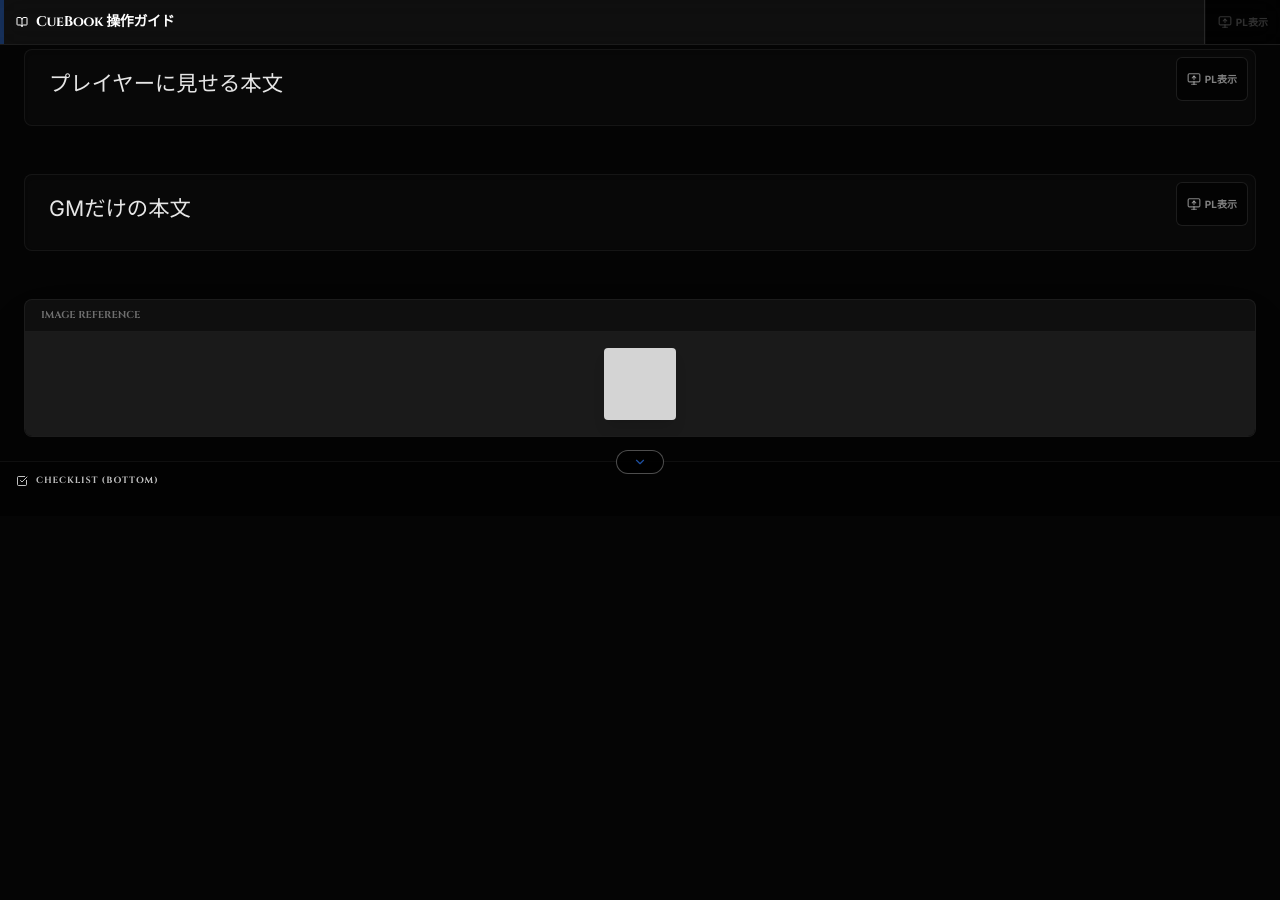
Scenario: ScriptViewer tablet regressions › shows only the selected text blocks in the local player reading view
The image size is (1280, 900).
Click the button with aria-label "プレイヤー表示に追加: first". click: point(1212, 79)
box: x1=1176 y1=57 x2=1248 y2=101
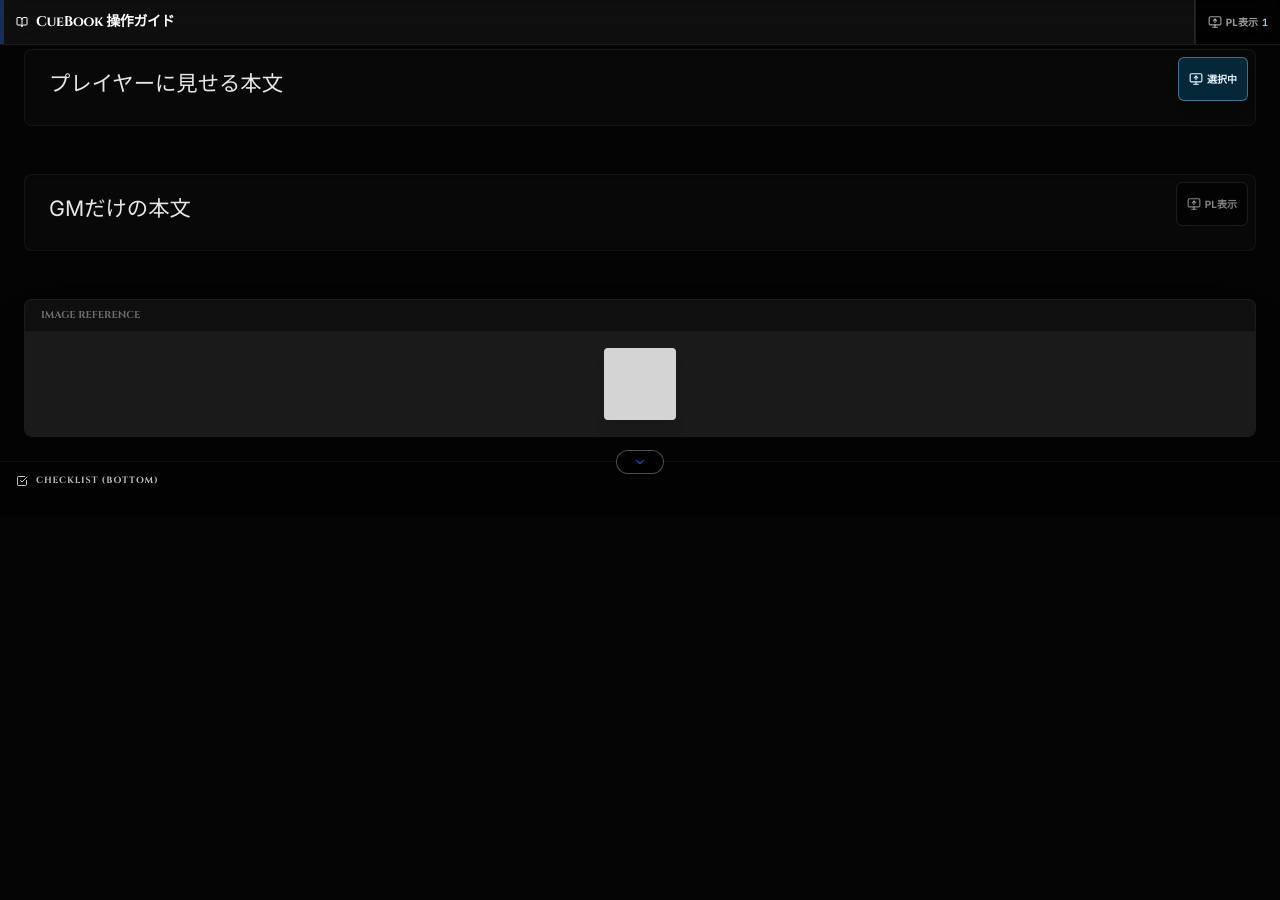
Click the button with aria-label "選択した本文をプレイヤー表示する". click: point(1237, 22)
box: x1=1195 y1=0 x2=1279 y2=44
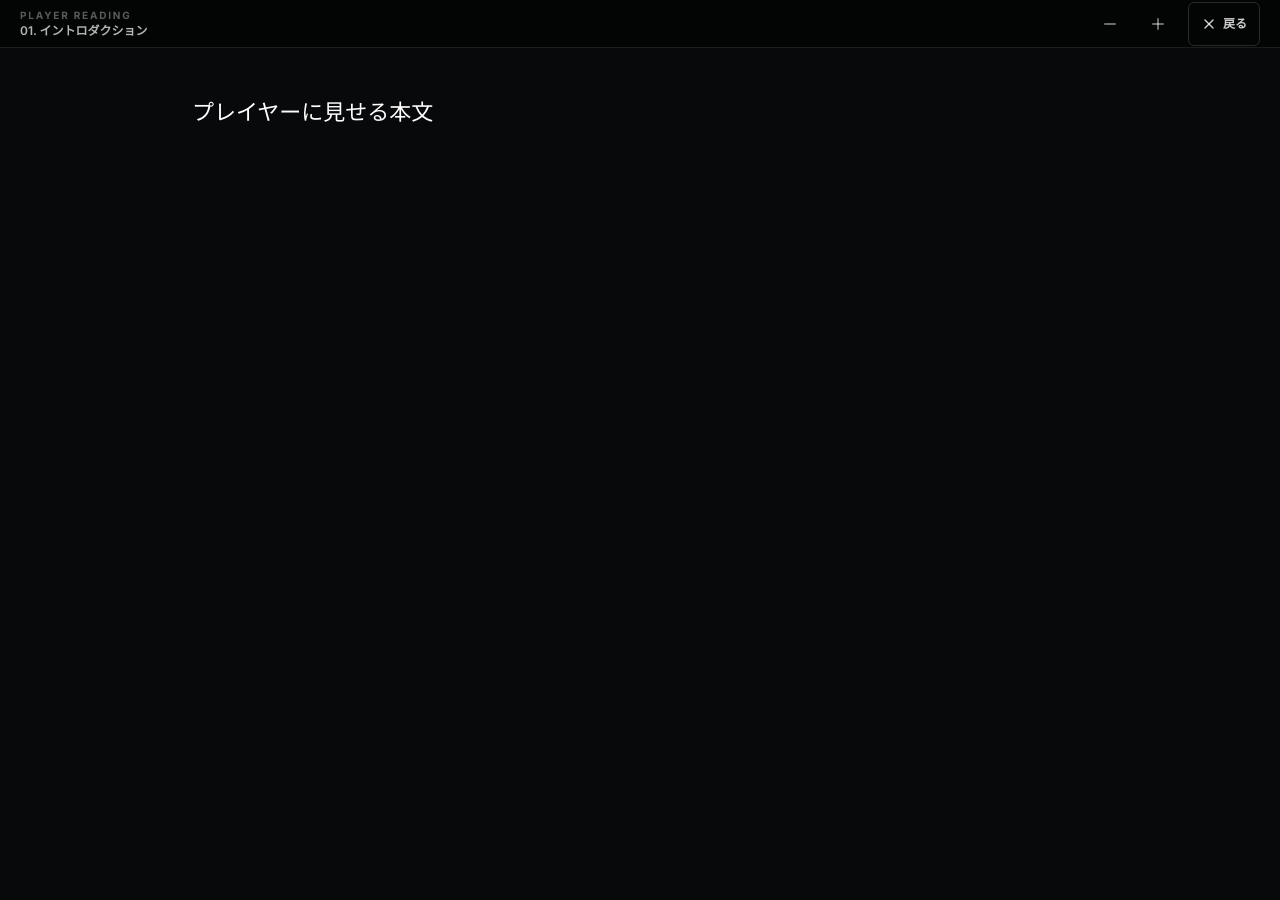
Expected: the element named "プレイヤー本文表示" does not show "GMだけの本文"
Result: the element named "プレイヤー本文表示" shows "プレイヤーに見せる本文" at x1=192 y1=99 x2=433 y2=125
